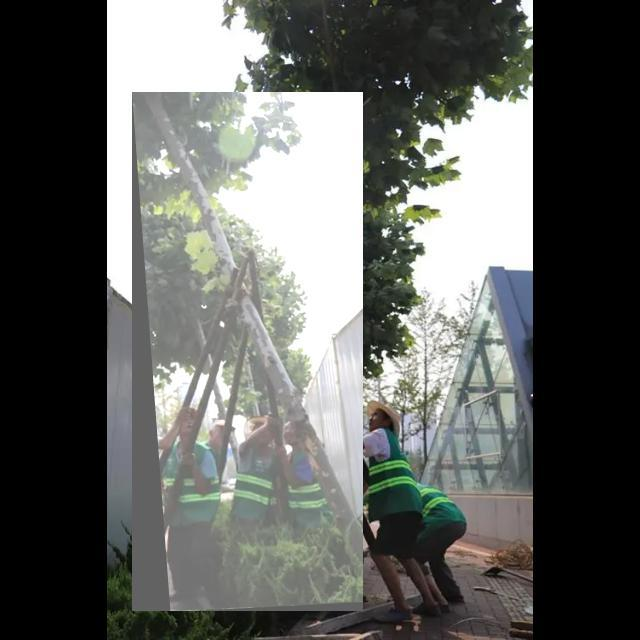fallen_tree: (132, 92, 364, 612)
